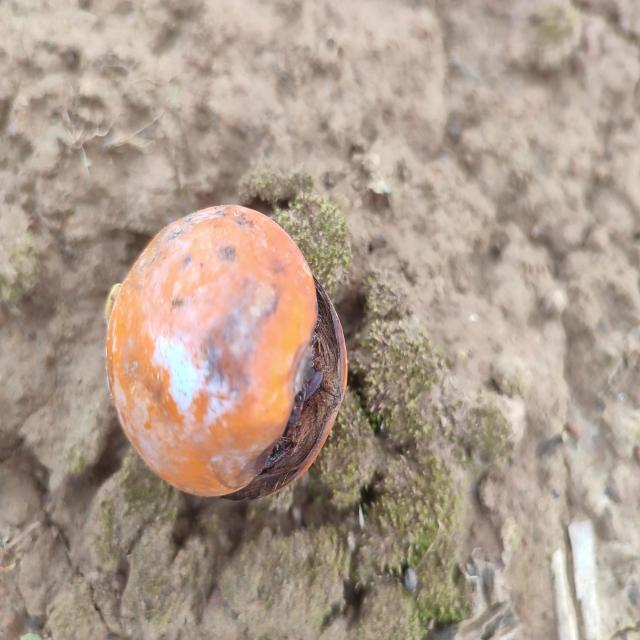damaged: (106, 205, 347, 500)
